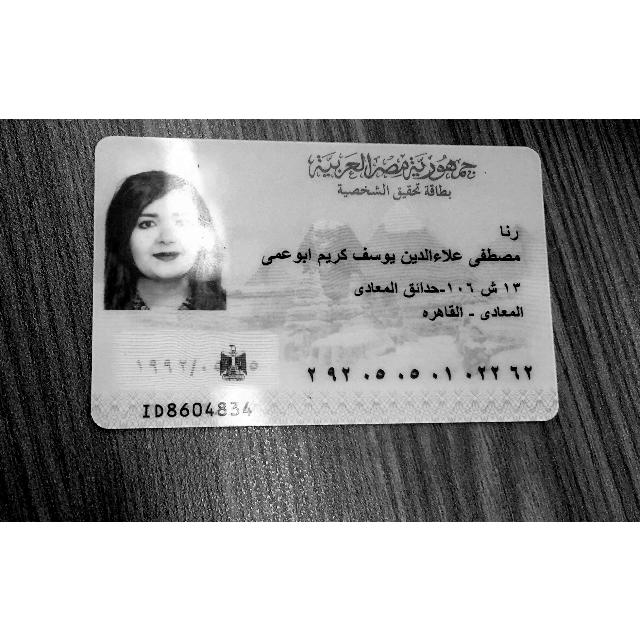id_card: (99, 134, 546, 426)
